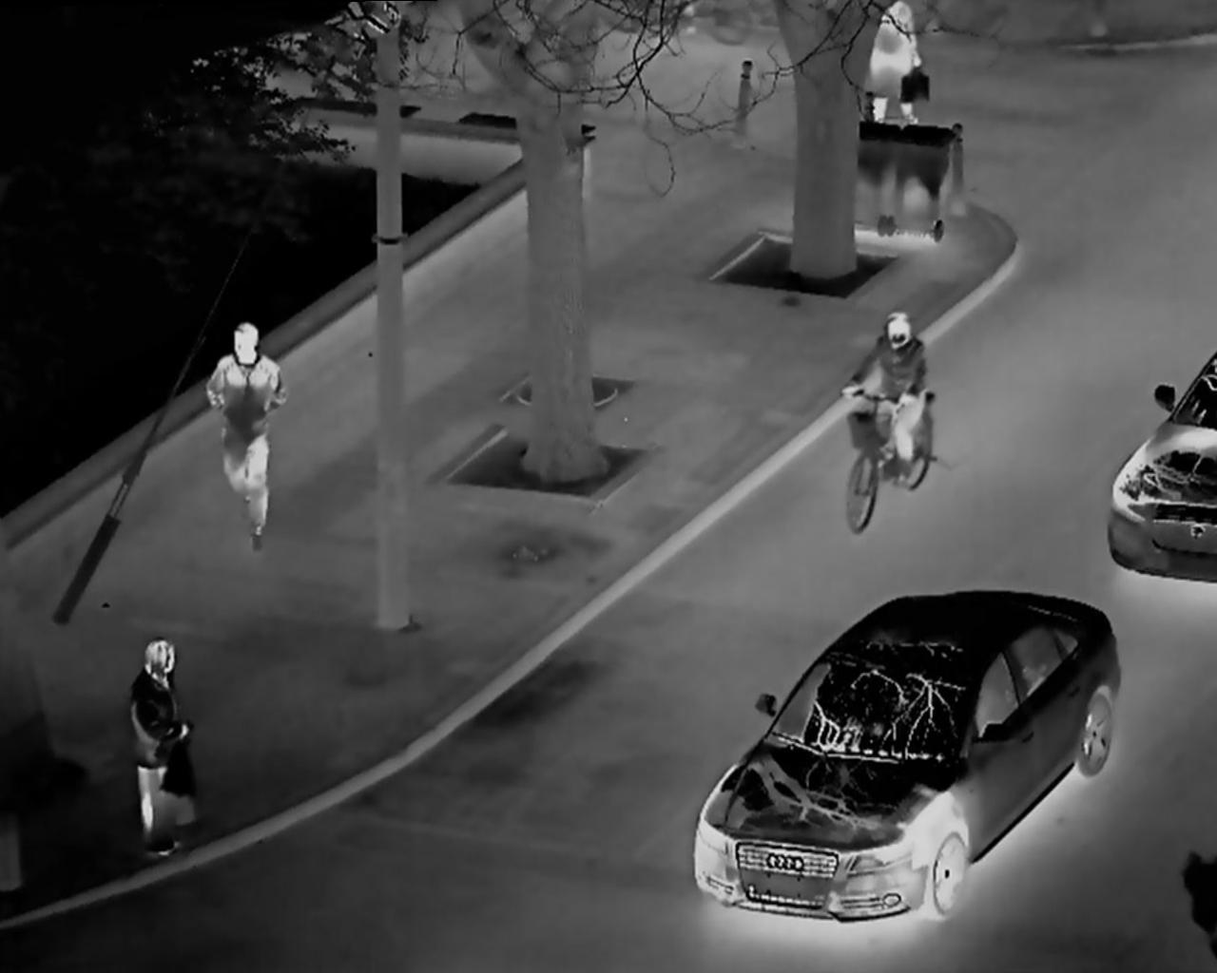person: (111, 615, 213, 874), (199, 315, 305, 559), (842, 297, 933, 506), (867, 4, 943, 131)
